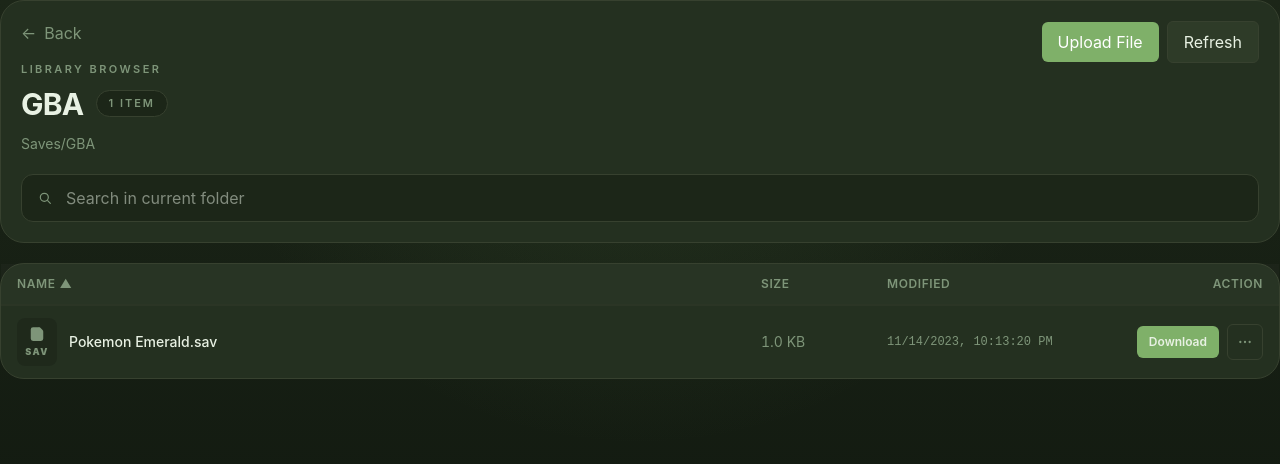
Test: BrowserView › hides folder operations for non-ROM library scopes
The width and height of the screenshot is (1280, 464).
Check: the button "Upload File" is shown, box [1042,22,1159,62]
Check: the button "Refresh" is shown, box [1167,21,1259,63]
Click the button named "More actions for Pokemon Emerald.sav" at {"x": 1245, "y": 342}, box [1227,324,1263,360]
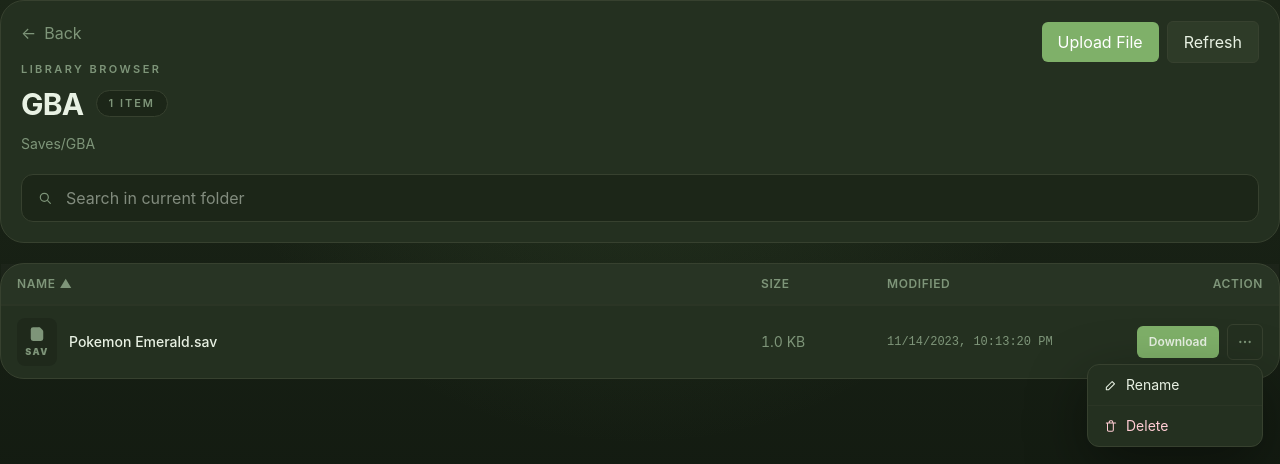
Check: the menu item "Rename" is shown, box [1088,364,1262,404]
Check: the menu item "Delete" is shown, box [1088,404,1262,446]
